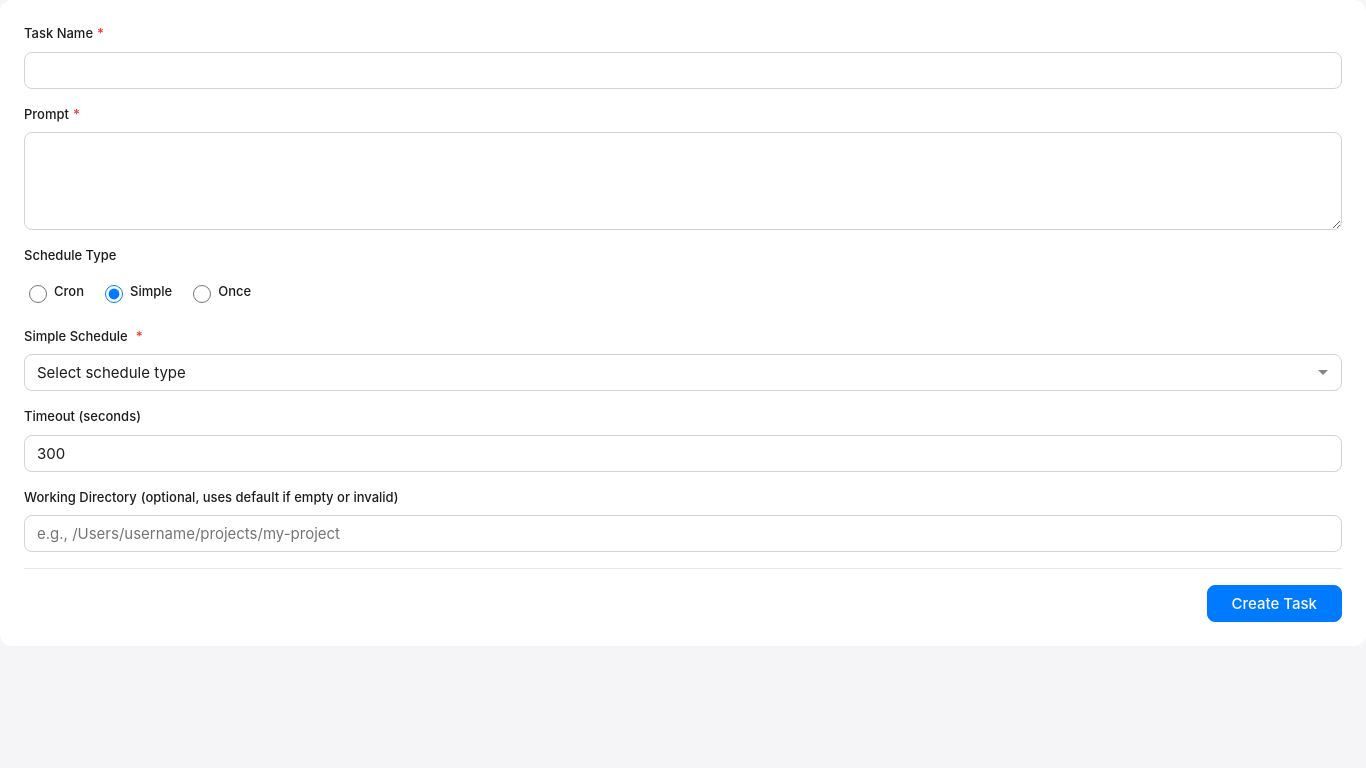
TaskForm › Rendering › shows once input when once schedule type is selected
The image size is (1366, 768).
What coordinates should you click on to do the following:
click the radio button labelled "Once"
I would click on:
 (202, 294)
Its box is [193,284,211,302].
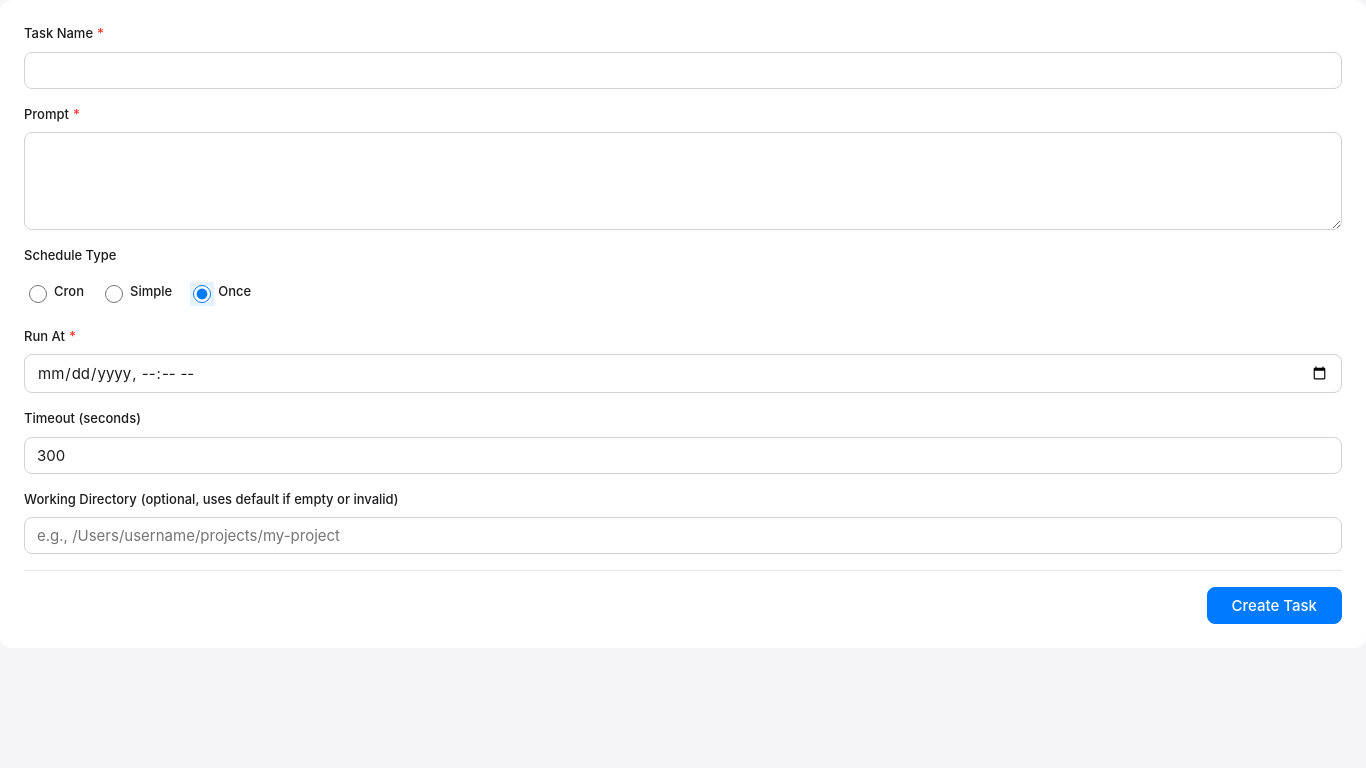
expect the field labelled "Run At *" is shown: met, box [24,354,1342,393]
